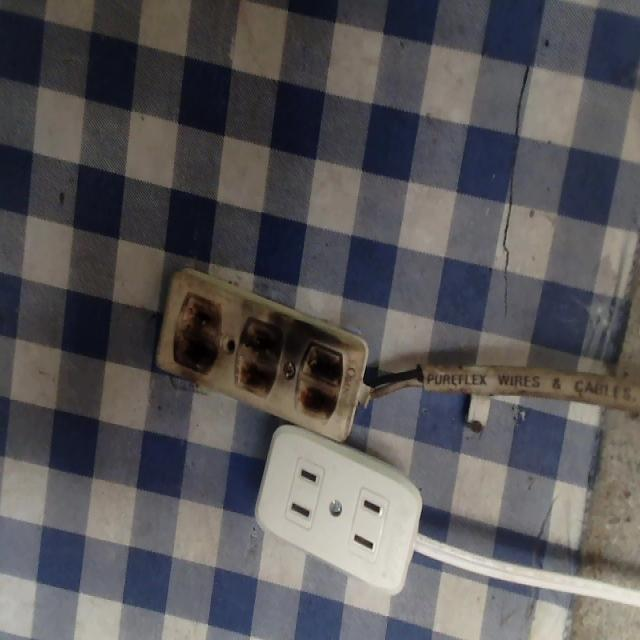-: (168, 283, 227, 377), (291, 335, 346, 424), (232, 307, 284, 400)
